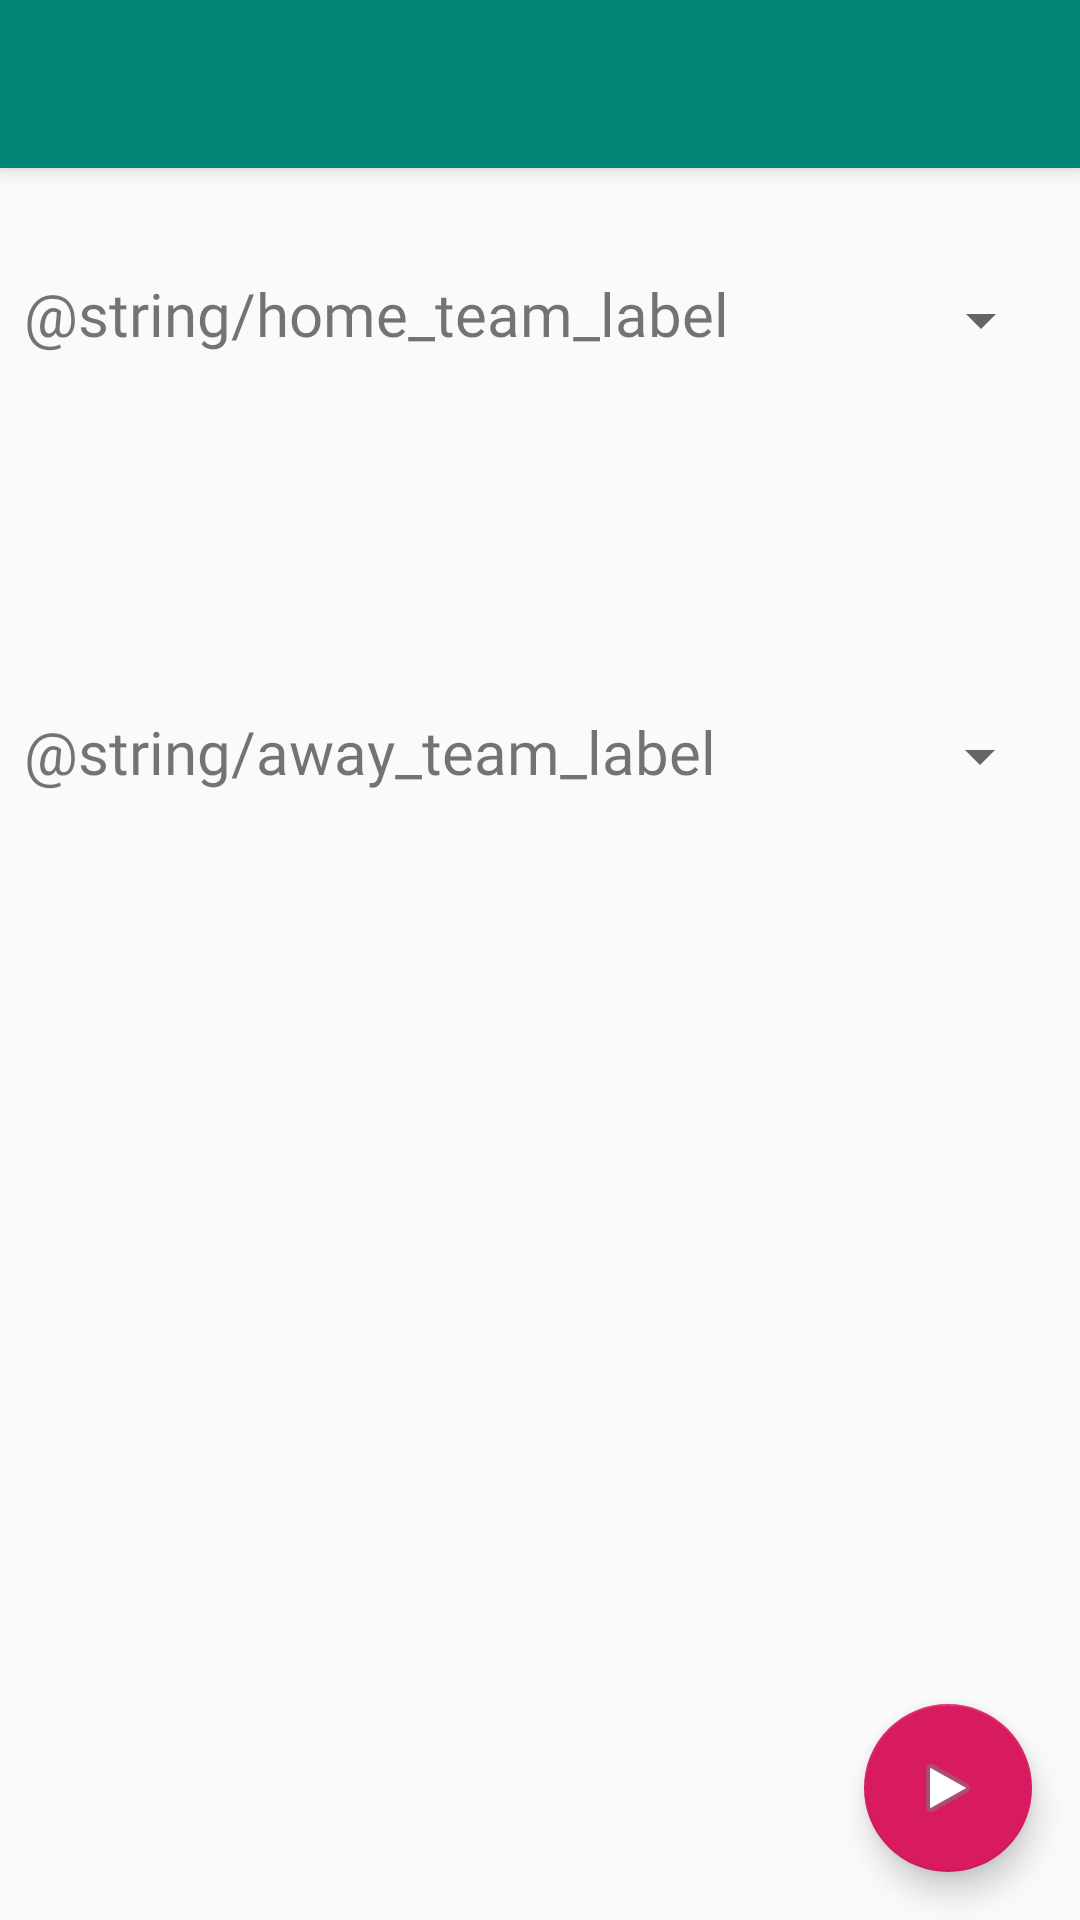

Icons on this 1080px x 1920px Android screen, each with its box as (x1, y1, x2, y2):
play: (864, 1704, 1032, 1872)
